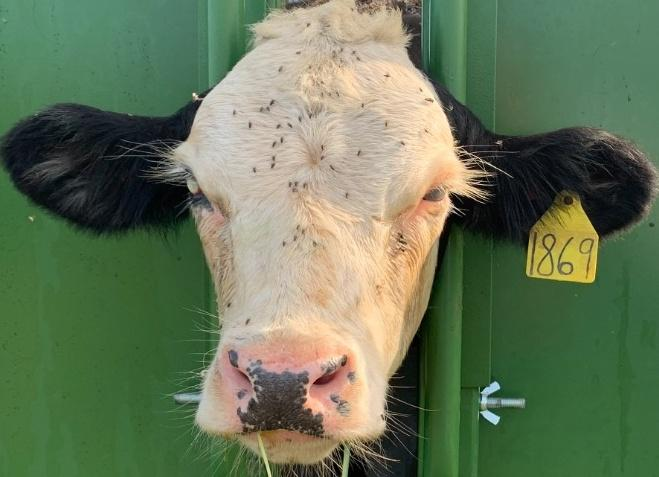muzzles: (195, 330, 398, 472)
